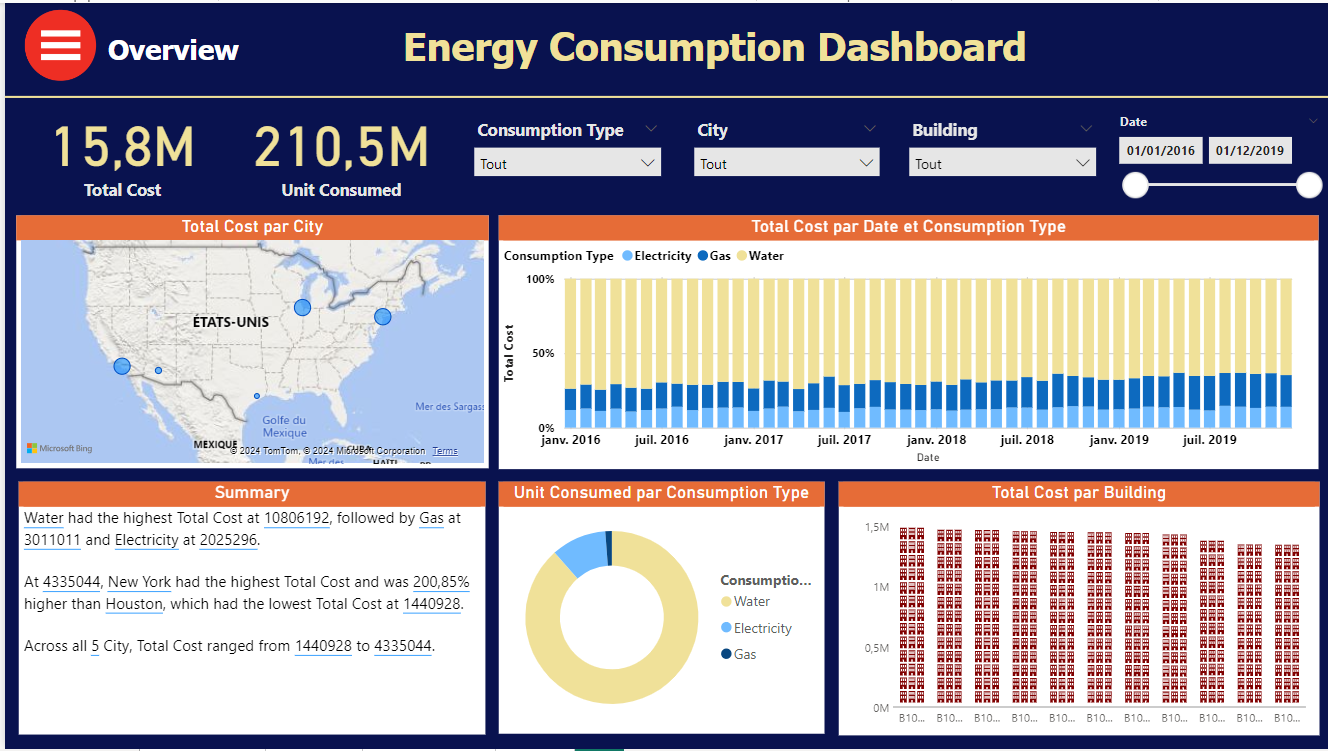

The page's visual inventory and layout, read from the dashboard file:
{"tool":"powerbi","page":{"name":"OVERVIEW","canvas":[1280,720],"ordinal":0},"visuals":[{"type":"textbox","box":[308,20,666,86],"z":0},{"type":"shape","box":[0,84,1280,42],"z":1000},{"type":"image","box":[1196.8,0,82.6,81.1],"z":2000},{"type":"card","fields":{"Values":["mesures.total_cost"]},"box":[0,106,150,118],"z":3000},{"type":"card","fields":{"Values":["mesures.Unit Consumed"]},"box":[150,98,180,126],"z":4000},{"type":"slicer","fields":{"Values":["Energy Consumptions.Consumption type"]},"box":[330,122,260,120],"z":5000},{"type":"slicer","fields":{"Values":["Building Master.City"]},"box":[590,122,206,120],"z":6000},{"type":"slicer","fields":{"Values":["Building Master.Building"]},"box":[798,122,176,102],"z":7000},{"type":"slicer","fields":{"Values":["Energy Consumptions.Date"]},"box":[974,106,304,128],"z":8000},{"type":"map","title":"Total Cost par City","fields":{"Category":["Building Master.City"],"Size":["mesures.total_cost"]},"box":[0,233.3,459.7,216.8],"z":9000},{"type":"hundredPercentStackedColumnChart","fields":{"Y":["mesures.total_cost"],"Series":["Energy Consumptions.Consumption type"],"Category":["Energy Consumptions.Date"]},"box":[463.8,233.3,815.1,216.8],"z":10000},{"type":"textbox","title":"Summary","box":[0,450,460,244.4],"z":11000},{"type":"donutChart","fields":{"Y":["Measures_Table.Unit Consumed"],"Category":["Energy Consumptions.Consumption type"]},"box":[463.3,450,254.4,244.4],"z":12000},{"type":"PBI_CV_73744D90_4DC9_4F18_8BA5_EE8FA5C98035","fields":{"Category":["Energy Consumptions.Building"],"Values":["Measures_Table.Total Cost"]},"box":[727.8,450,551.1,244.4],"z":13000},{"type":"image","box":[16.7,0,86.7,98.3],"z":14000},{"type":"textbox","box":[103.3,25,148.3,48.3],"z":15000},{"type":"actionButton","box":[16.7,13.3,86.7,78.3],"z":16000}]}

Visuals, with their boxes in screenshot pixels (x1, y1, x2, y2), scaled from the page's 1280x720 canvas onto the 1328x751 screenshot:
textbox: bbox(320, 21, 1011, 111)
shape: bbox(0, 88, 1327, 131)
image: bbox(1242, 0, 1327, 85)
card - mesures.total_cost: bbox(0, 111, 156, 234)
card - mesures.Unit Consumed: bbox(156, 102, 342, 234)
slicer - Energy Consumptions.Consumption type: bbox(342, 127, 612, 252)
slicer - Building Master.City: bbox(612, 127, 826, 252)
slicer - Building Master.Building: bbox(828, 127, 1011, 234)
slicer - Energy Consumptions.Date: bbox(1011, 111, 1326, 244)
"Total Cost par City" map: bbox(0, 243, 477, 469)
hundredPercentStackedColumnChart - mesures.total_cost x Energy Consumptions.Consumption type: bbox(481, 243, 1327, 469)
"Summary" textbox: bbox(0, 469, 477, 724)
donutChart - Measures_Table.Unit Consumed x Energy Consumptions.Consumption type: bbox(481, 469, 745, 724)
PBI_CV_73744D90_4DC9_4F18_8BA5_EE8FA5C98035 - Energy Consumptions.Building x Measures_Table.Total Cost: bbox(755, 469, 1327, 724)
image: bbox(17, 0, 107, 103)
textbox: bbox(107, 26, 261, 76)
actionButton: bbox(17, 14, 107, 96)
